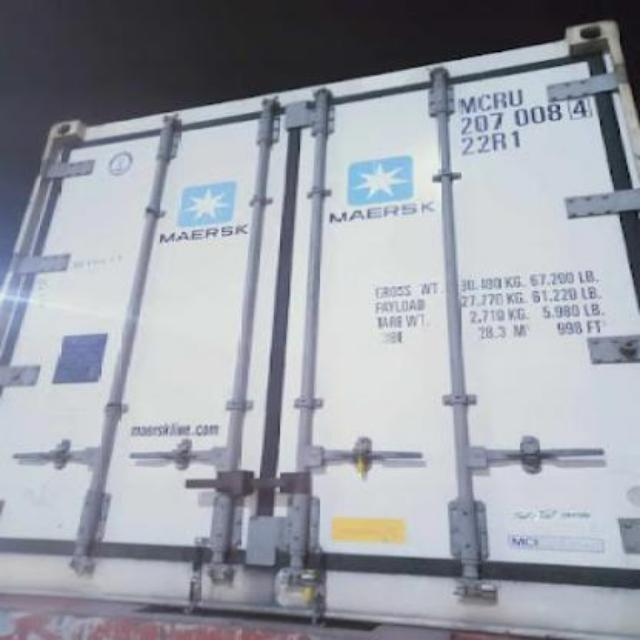0: (530, 100, 546, 128), (472, 112, 490, 134), (512, 105, 528, 125)
2: (452, 112, 474, 134)
4: (568, 96, 590, 120)
7: (491, 110, 504, 132)
8: (548, 99, 564, 125)
C: (476, 92, 489, 112)
M: (454, 93, 476, 113)
R: (490, 88, 506, 110)
U: (506, 85, 524, 106)
